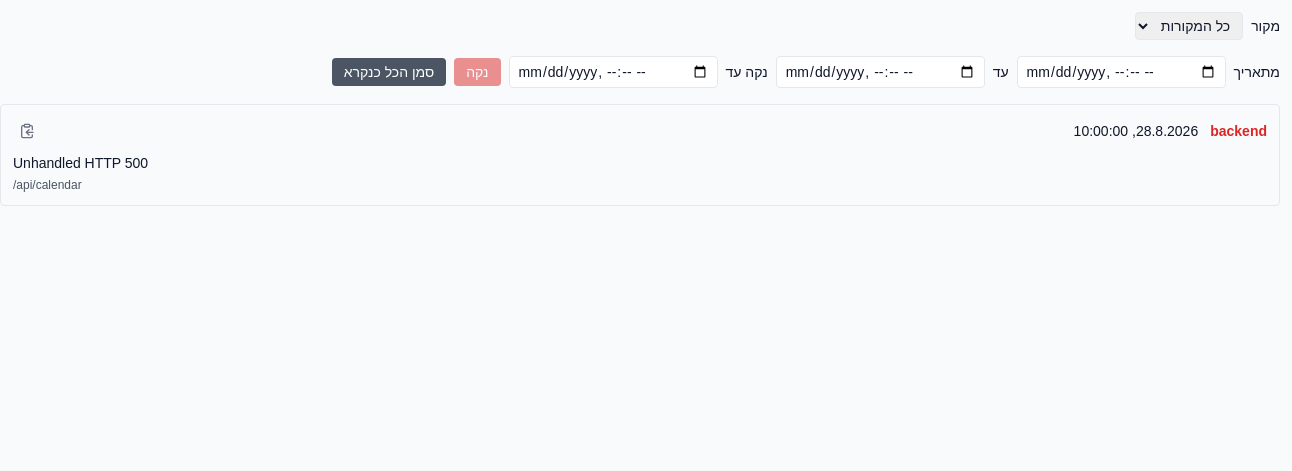
Test case: shows correlated errors and expands sanitized details
Expected: the element with test id "admin-error-trace-1" shows "Unhandled HTTP 500", left=13, top=155, right=148, bottom=171
Click the button "backend 28.8.2026, 10:00:00" at [1239, 131], box left=49, top=121, right=1267, bottom=141
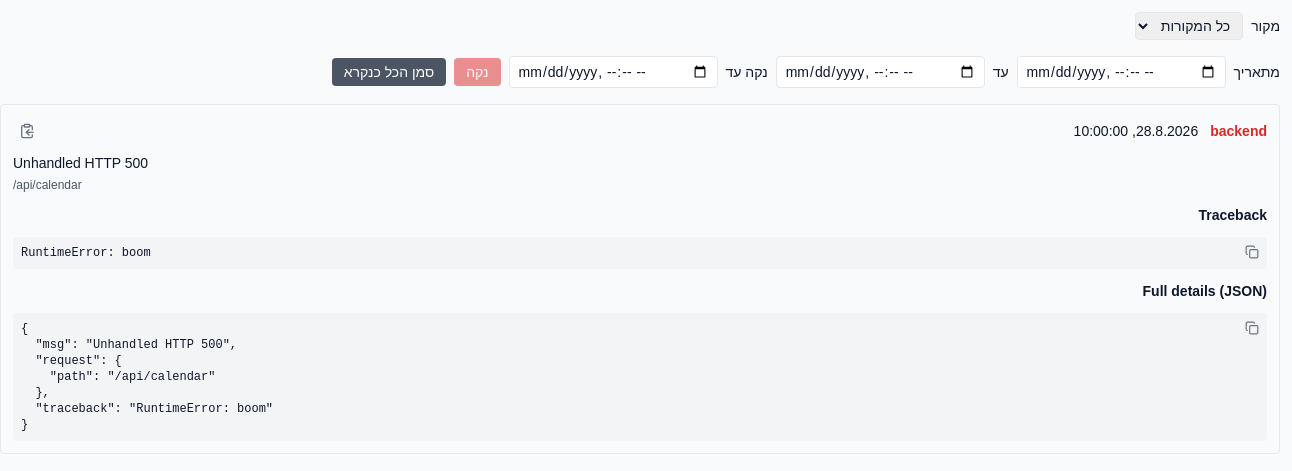
Expected: the text with test id "admin-error-stack-trace-1" reads "RuntimeError: boom", left=21, top=246, right=151, bottom=260
Expected: the heading "Traceback" is shown, left=1198, top=207, right=1267, bottom=223
Expected: the heading "Full details (JSON)" is shown, left=1142, top=283, right=1267, bottom=299
